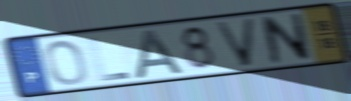8: (180, 25, 218, 72)
A: (133, 27, 188, 81)
L: (87, 35, 133, 83)
N: (259, 11, 314, 66)
O: (43, 38, 90, 87)
V: (212, 17, 258, 69)
